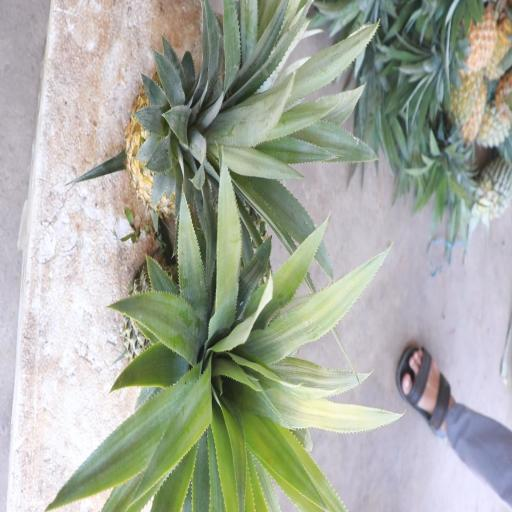Pineapple - v8 v1: (122, 72, 251, 222)
